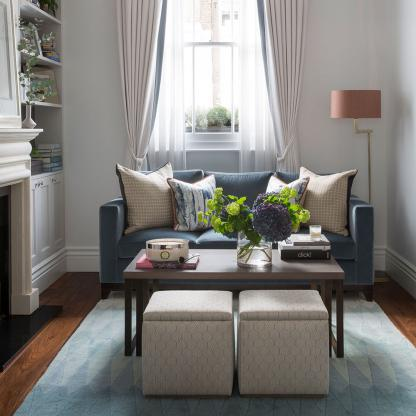bantal: (117, 164, 174, 230), (301, 168, 350, 234), (170, 179, 218, 232)
buku: (279, 235, 333, 261)
lampu: (328, 87, 387, 143)
sova: (103, 168, 375, 298)
tanaman: (208, 193, 294, 244)
